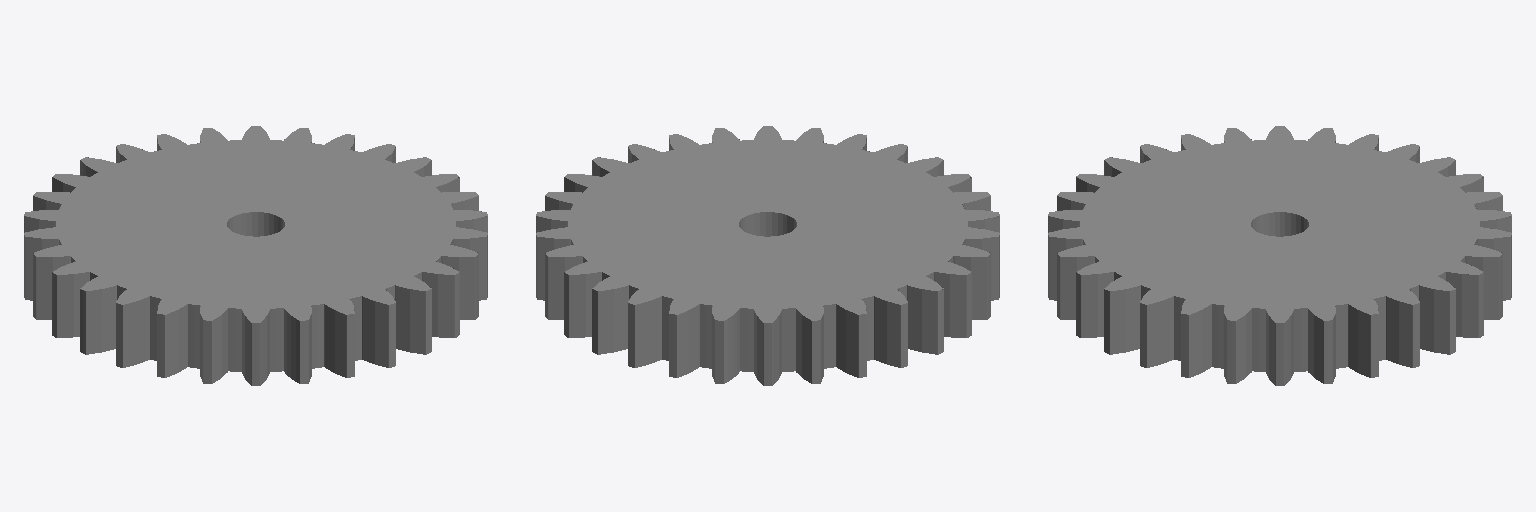
Rendered from gear1.obj.
The picture shows the model from 3 angles: view 1: azimuth 30°, elevation 25°; view 2: azimuth 150°, elevation 25°; view 3: azimuth 270°, elevation 25°; orthographic projection.
Visible parts, largest first — view 1: AST83C66836_DC_Brep; view 2: AST83C66836_DC_Brep; view 3: AST83C66836_DC_Brep.
Part boxes in pixels (bbox=[...]): AST83C66836_DC_Brep: bbox=[24, 126, 487, 385]; AST83C66836_DC_Brep: bbox=[536, 126, 999, 385]; AST83C66836_DC_Brep: bbox=[1048, 126, 1511, 385].
Bounding box in the file's own units: 80 × 12 × 79.7.